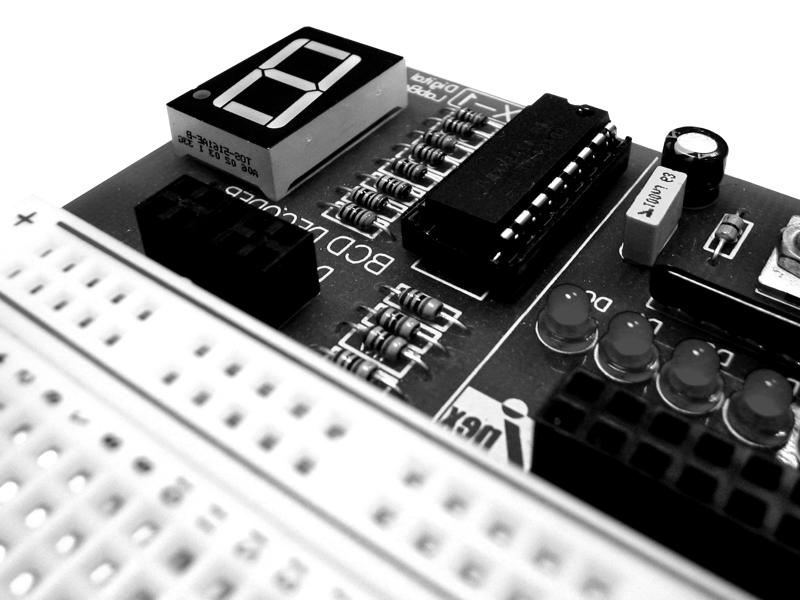Capacitor: (657, 120, 731, 206)
LED: (729, 368, 796, 449), (659, 336, 726, 413), (534, 283, 600, 357), (598, 307, 660, 385)
Resistor: (369, 301, 432, 348), (392, 282, 454, 325), (357, 320, 413, 367), (330, 344, 383, 386), (707, 211, 747, 251), (403, 139, 454, 168), (369, 171, 416, 200), (333, 201, 378, 230), (383, 154, 429, 181), (348, 183, 391, 211), (420, 126, 463, 154), (434, 115, 476, 141), (449, 103, 491, 128)
